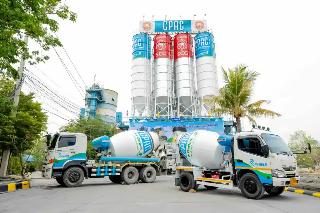cement_mixer_truck: (169, 128, 306, 205), (42, 125, 163, 191)
